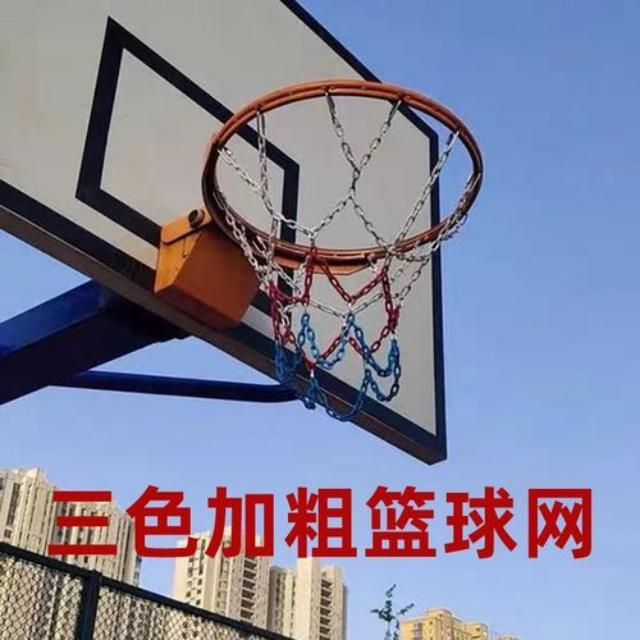rim: (202, 80, 486, 423)
